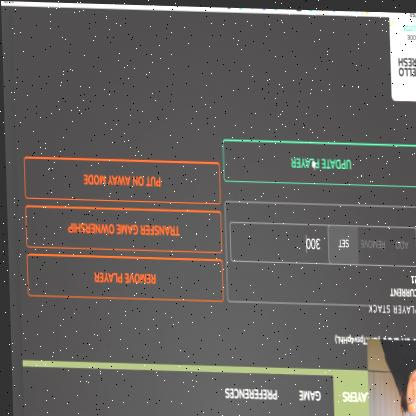streamer: (381, 337, 416, 416)
